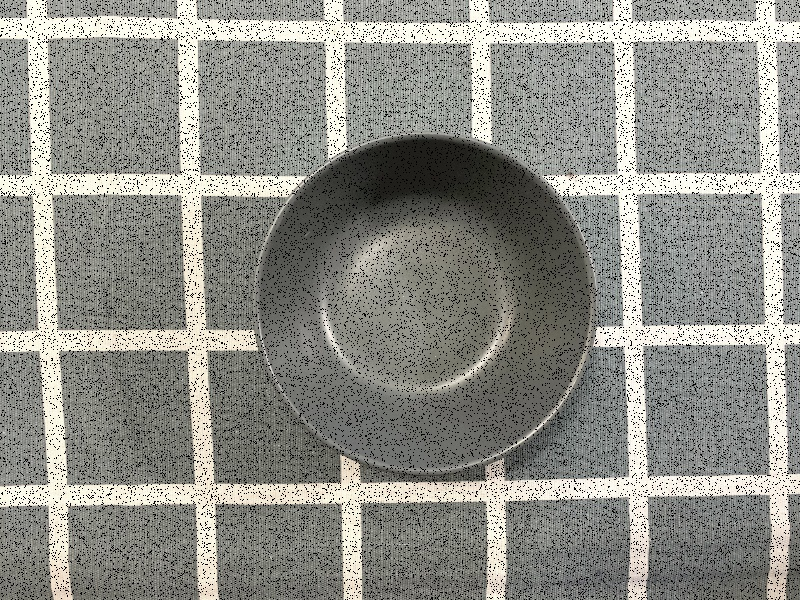bowl_big: (243, 126, 620, 489)
